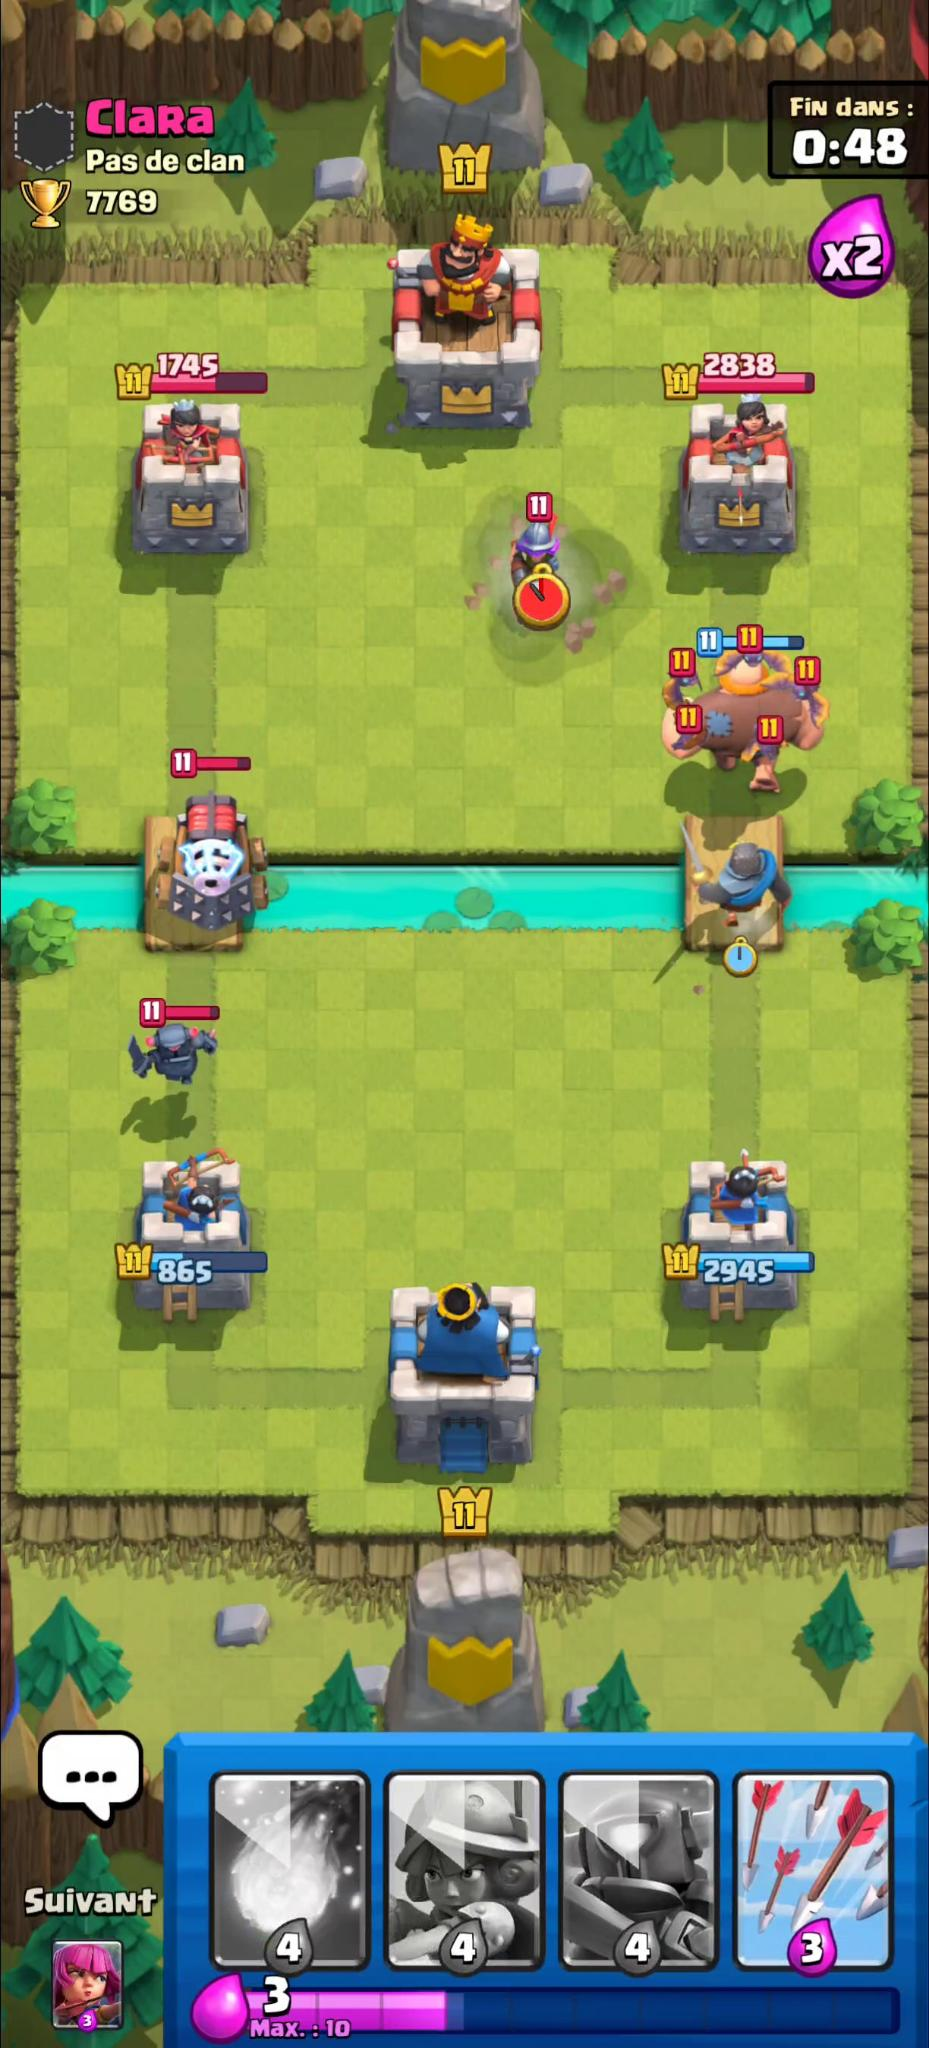bat: (759, 671, 832, 731), (713, 643, 794, 677), (661, 664, 708, 713), (740, 720, 793, 763), (668, 707, 711, 751)
chevalier: (679, 819, 794, 927)
geant: (662, 657, 830, 795)
mini_PEKKA: (124, 1019, 221, 1091)
mousquetaire: (510, 515, 564, 602)
zappy: (155, 794, 269, 931)
